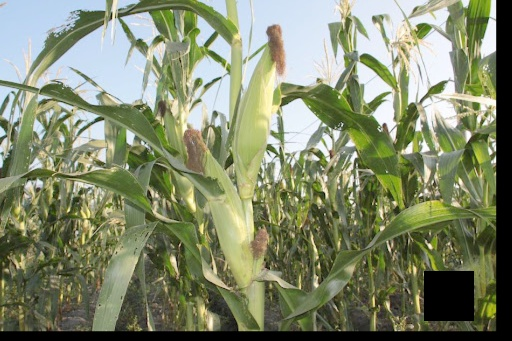corn_plant: (183, 130, 256, 290), (241, 23, 287, 200)
